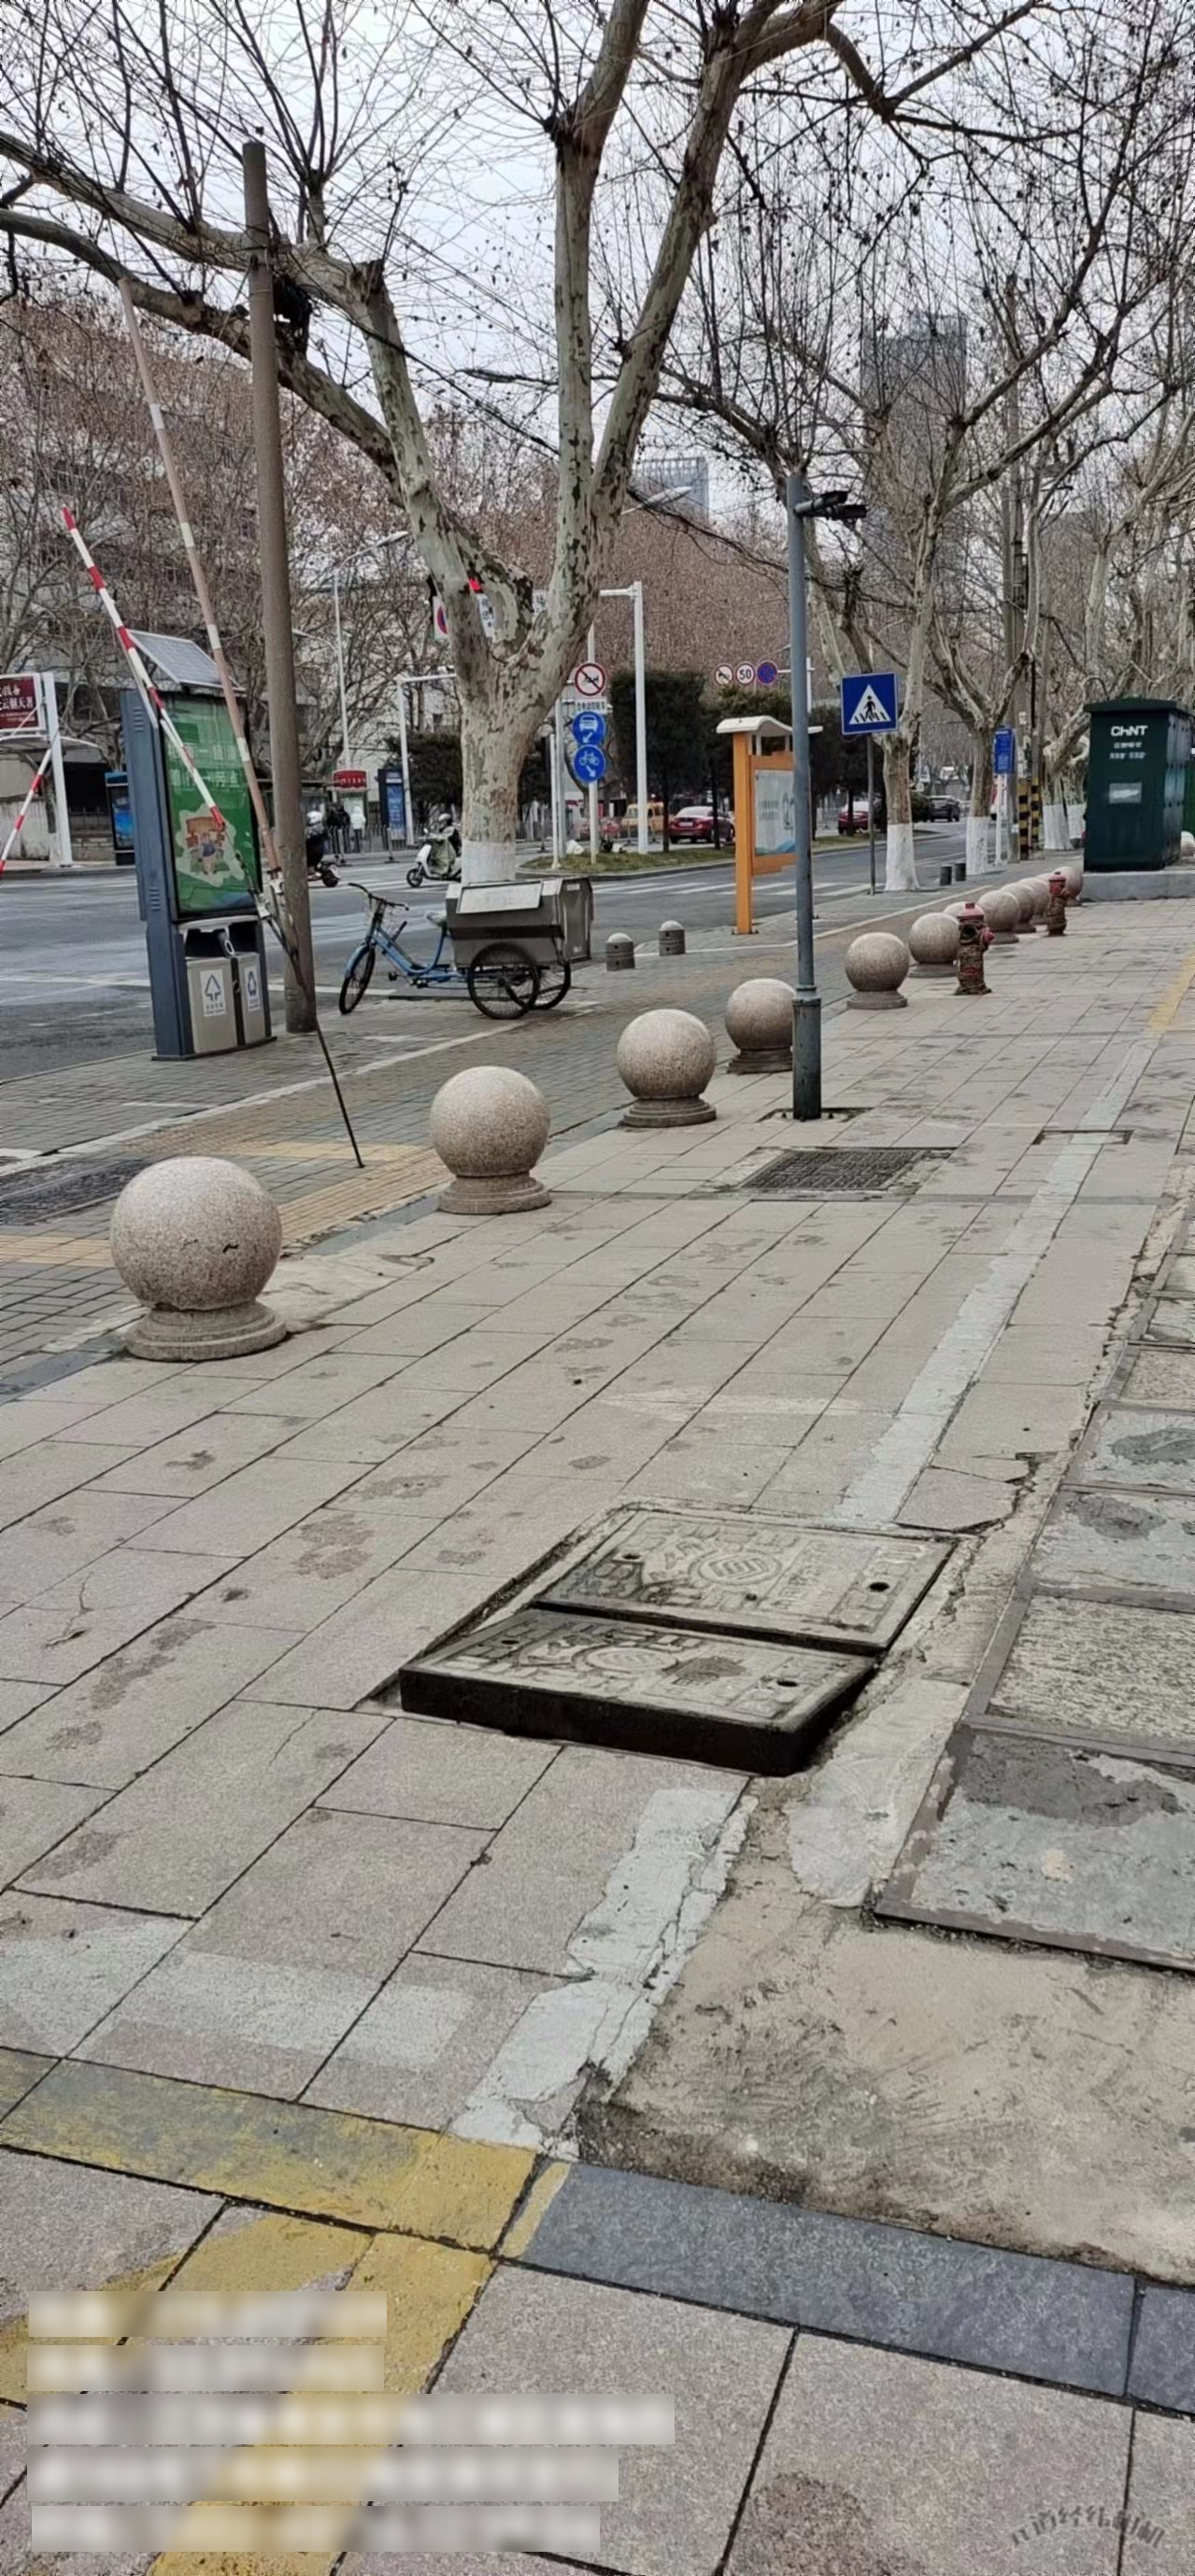well: (371, 1500, 980, 1789)
